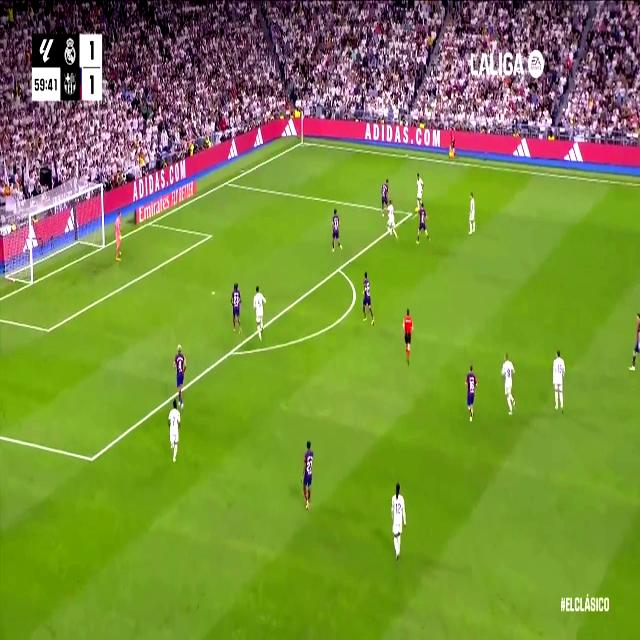bigarea_bottom_inner: (86, 445, 98, 472)
bigarea_top_outter: (223, 175, 231, 189)
bottom_arc_area_intersection: (226, 340, 238, 361)
corner: (297, 136, 307, 147)
smallarea_bottom_inner: (44, 320, 52, 340)
smallarea_top_inner: (207, 229, 213, 241)
top_arc_area_intersection: (335, 260, 343, 277)
